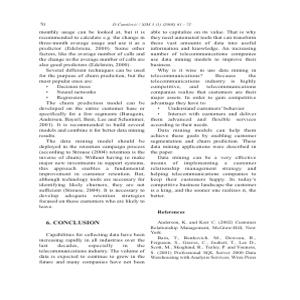text: (32, 29, 148, 268), (150, 29, 263, 266)
